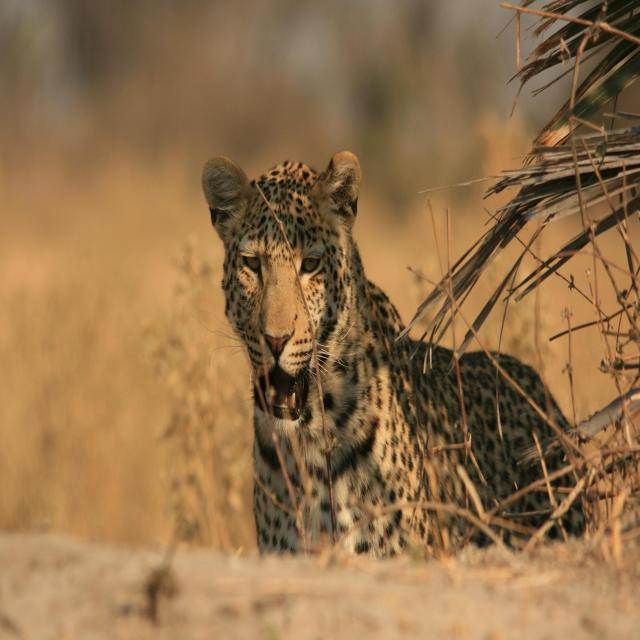Leopard: (139, 124, 607, 575)
